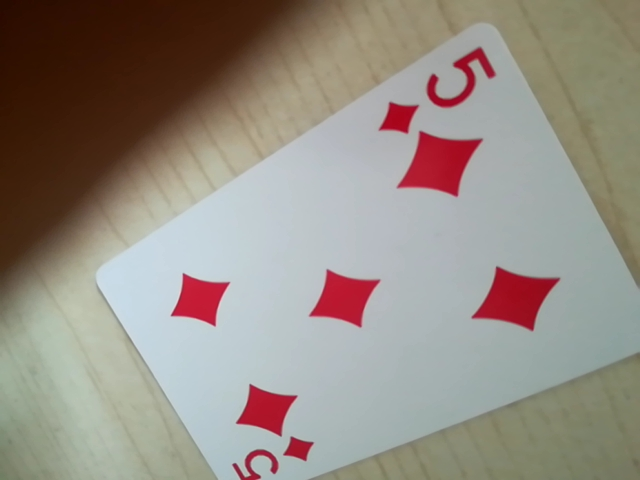fk 5: (378, 41, 495, 140), (225, 433, 316, 480)
